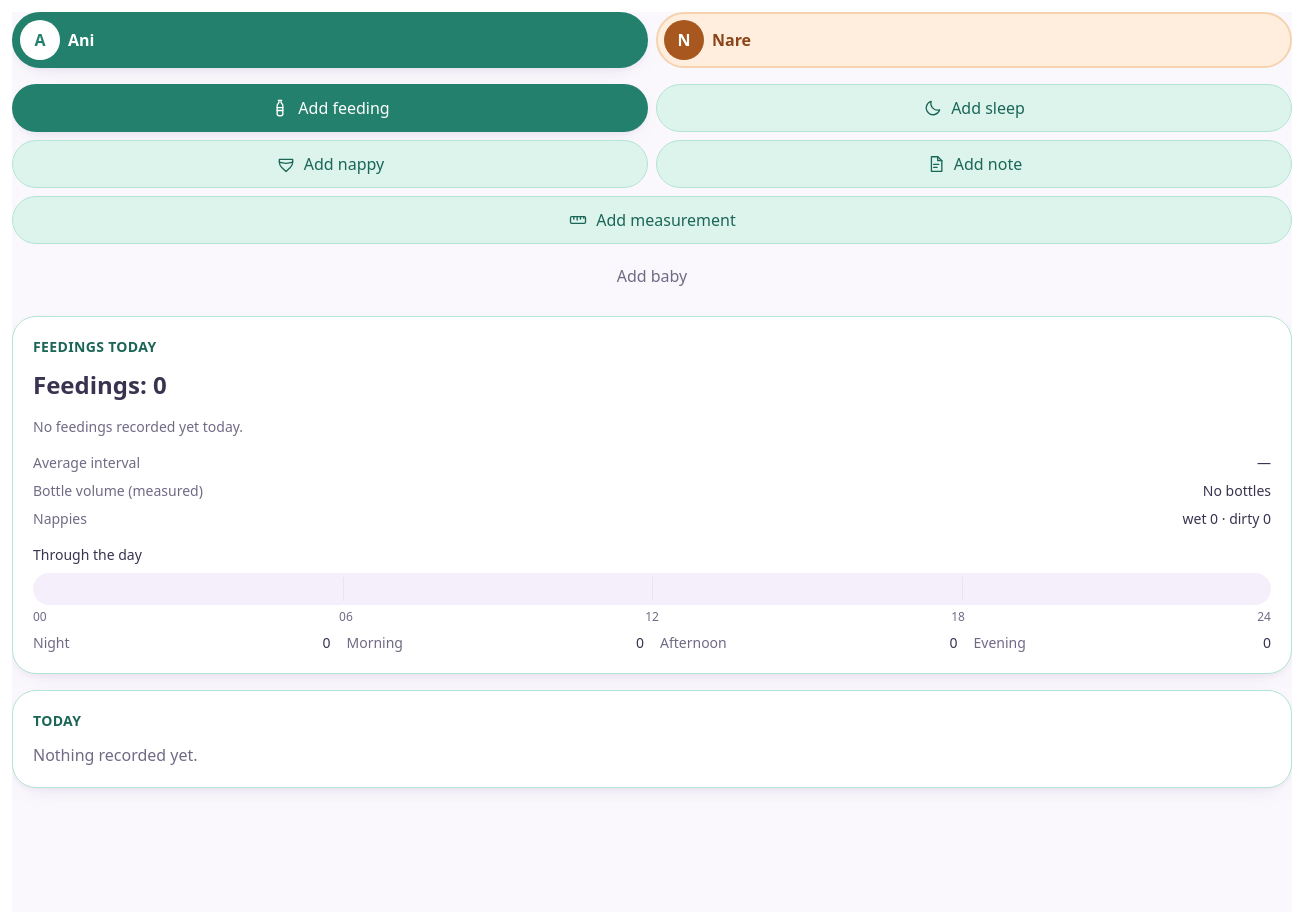
Scenario: adding a feeding › opens the feeding form when the Add feeding action is used
The width and height of the screenshot is (1304, 912).
expect the button "Add note" is shown: met, box [656,140,1292,188]
expect the field labelled "Amount" is not shown: met
What coordinates should you click on to do the following:
click the button "Add feeding"
I would click on:
 (330, 108)
Its box is [12,84,648,132].
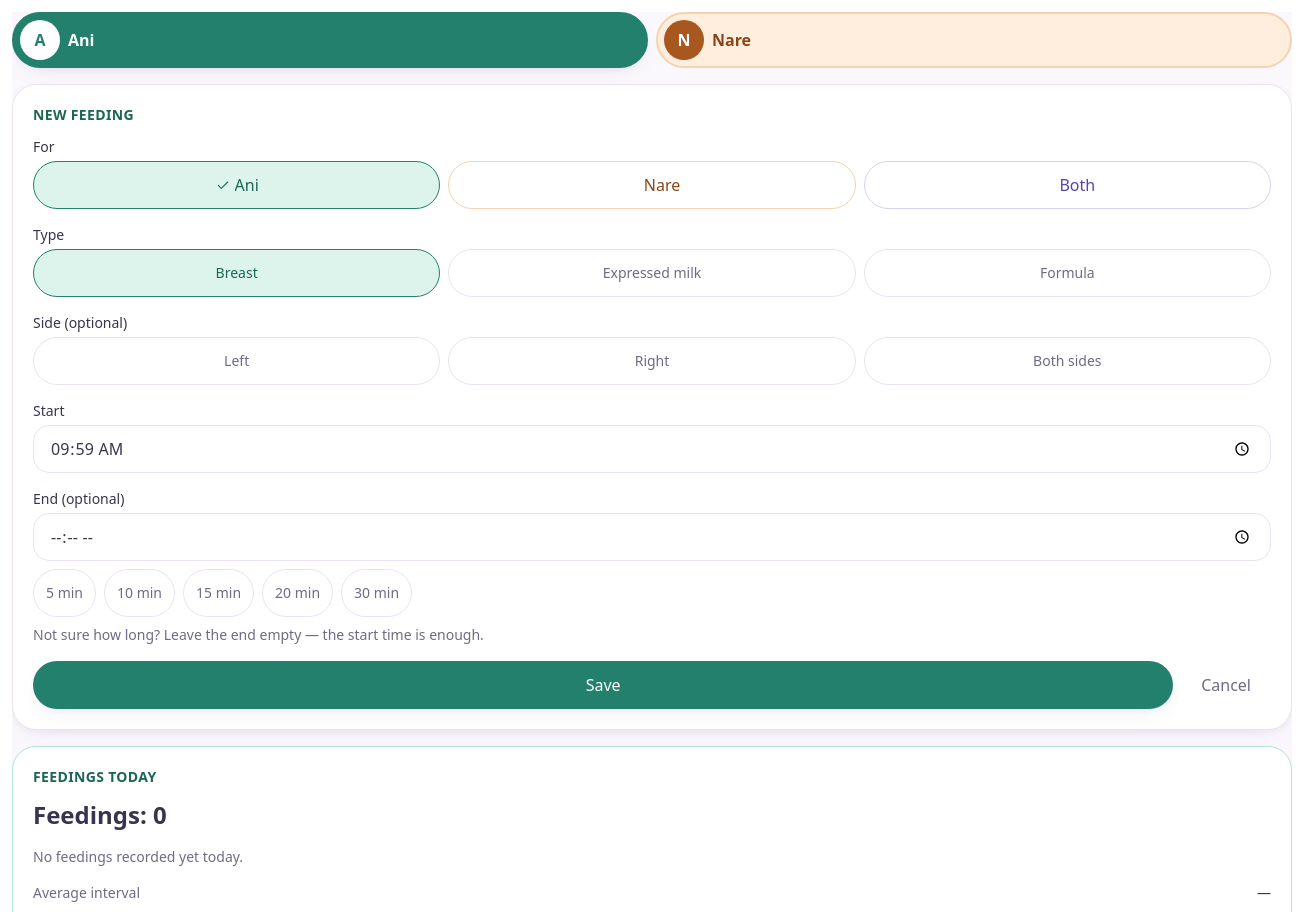
What coordinates should you click on to do the following:
click the radio button labelled "Formula"
I would click on:
 (1067, 273)
Its box is [864,249,1271,297].
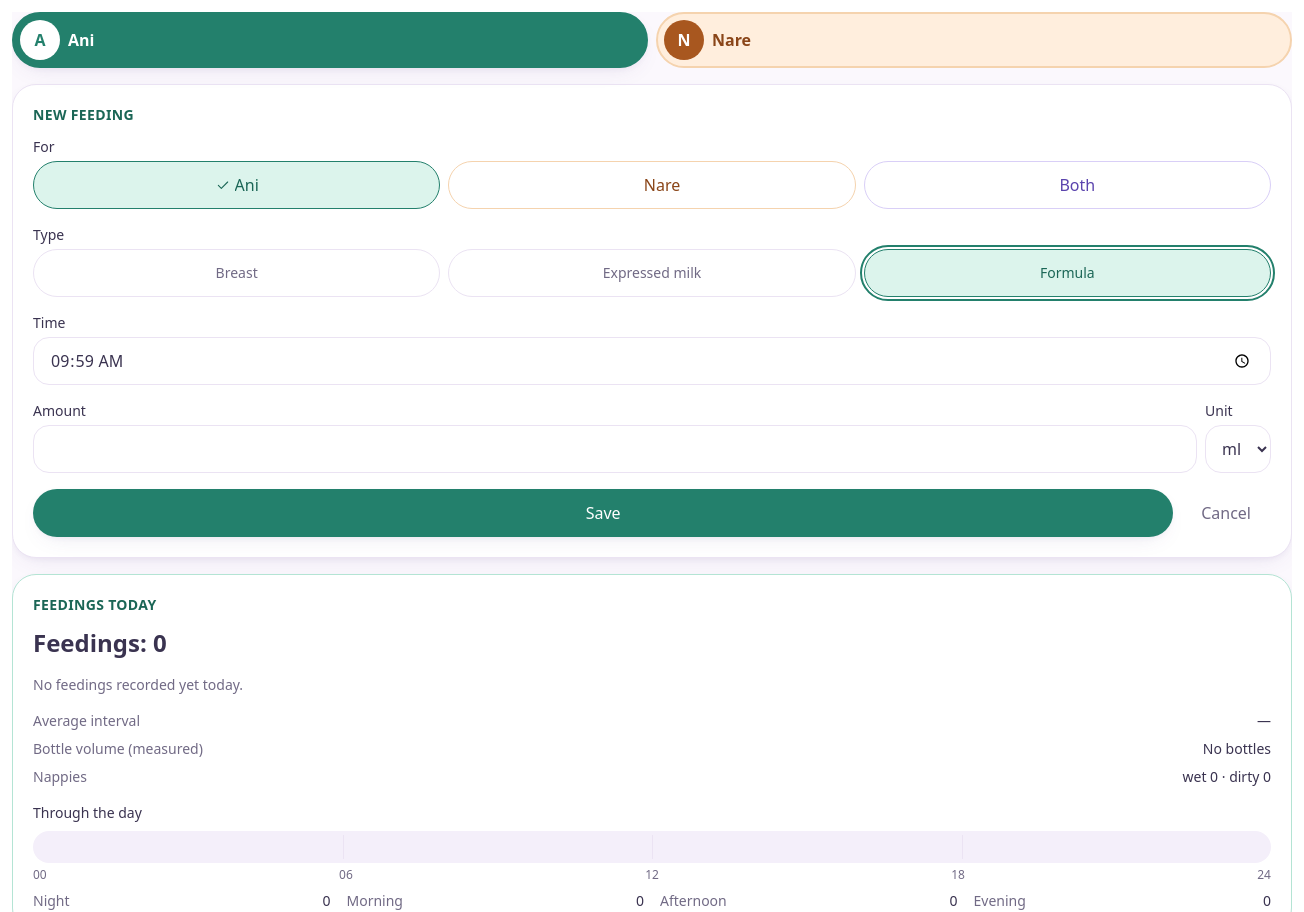
expect the heading "New feeding" is shown: met, box [33,105,134,124]
expect the number field labelled "Amount" is empty: met, box [33,425,1197,473]
expect the dropdown labelled "Unit" shows "ml": met, box [1205,425,1271,473]
